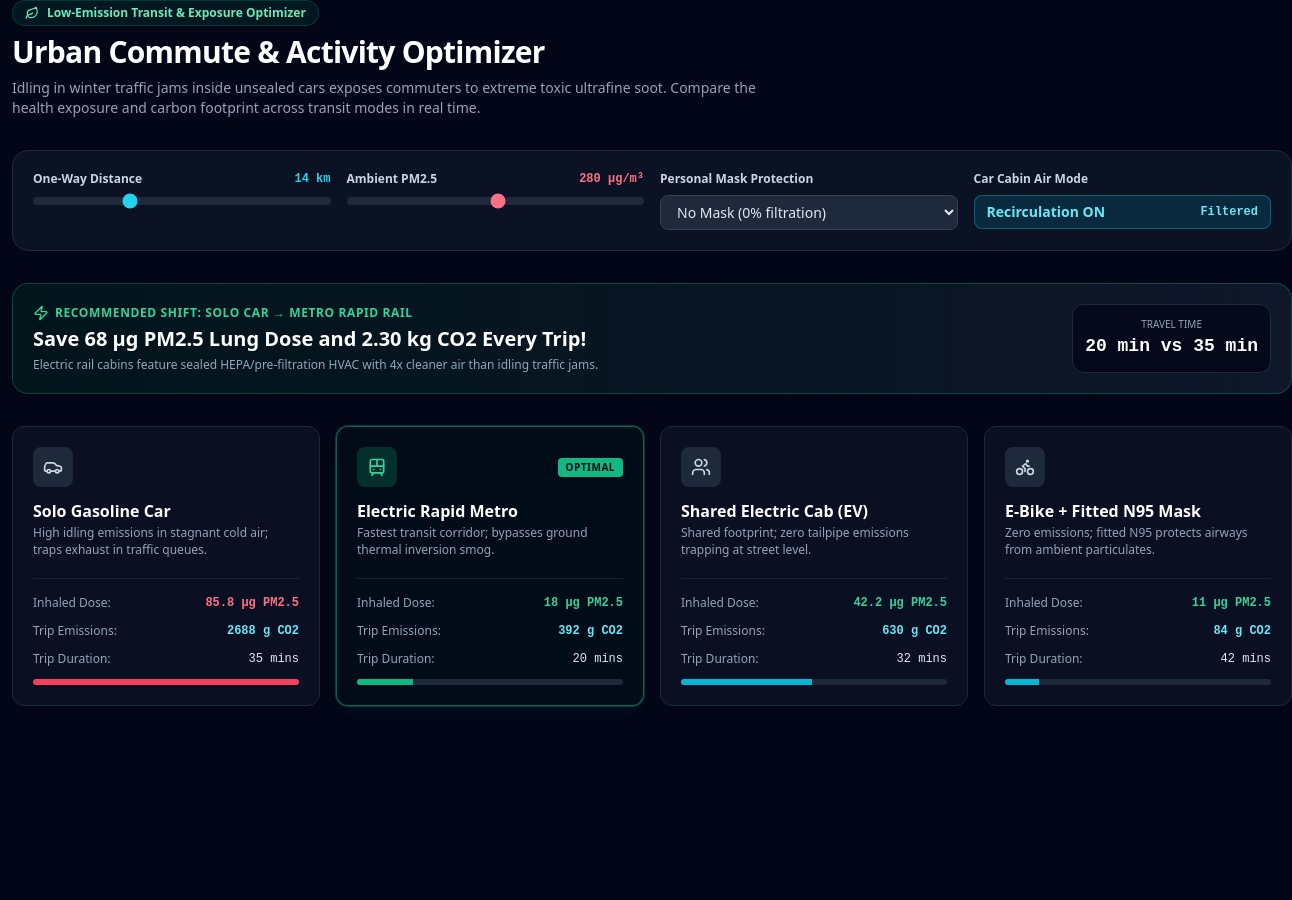
Test case: RoutineOptimizerView Component › updates distance and calculates exposure
The image size is (1292, 900).
Set the slider labelled "One-Way Distance" to "25" at {"x": 211, "y": 201}, box 33,197 -> 330,205
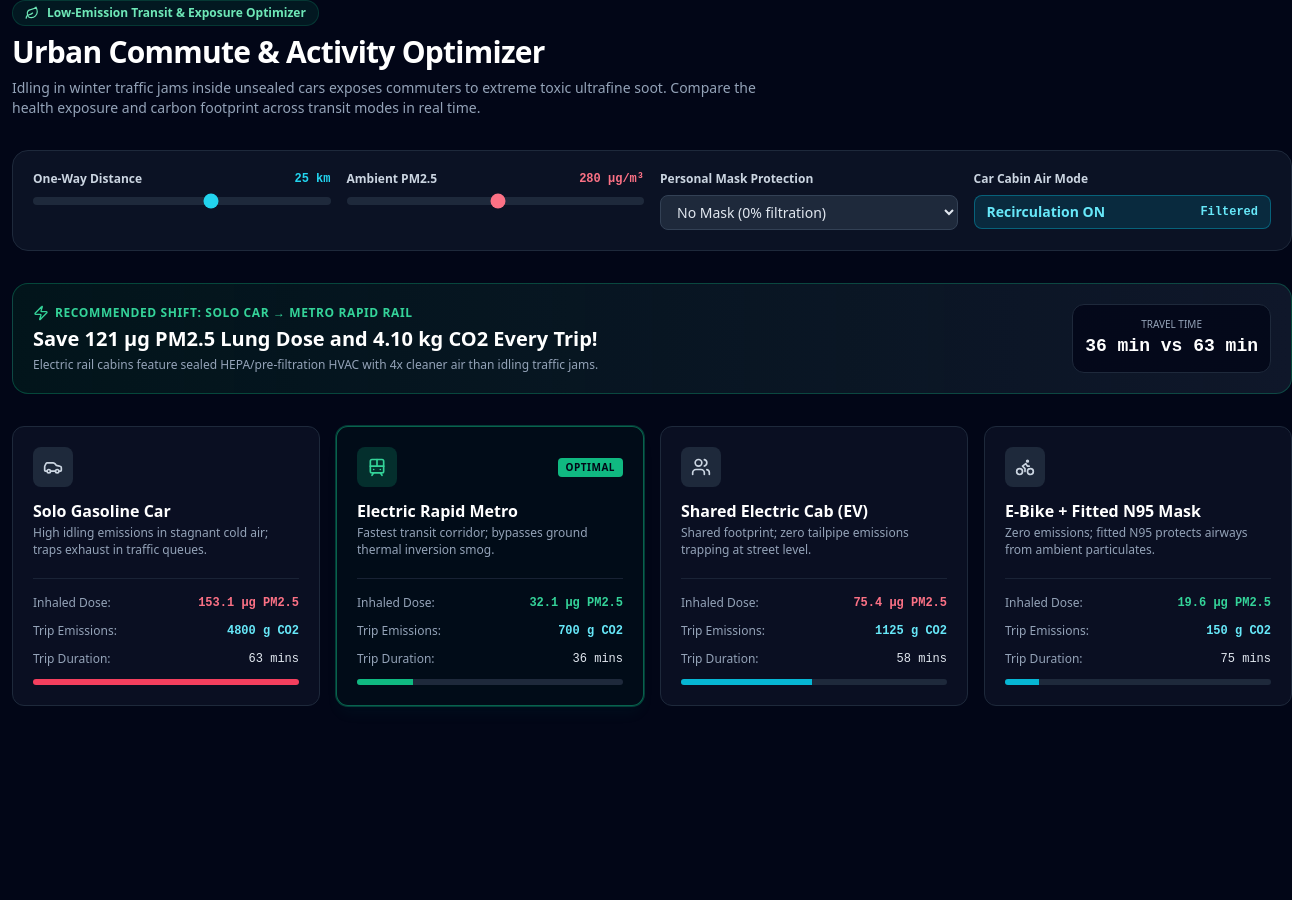
Expected: the text "25 km" is shown, 294,171 -> 330,187
